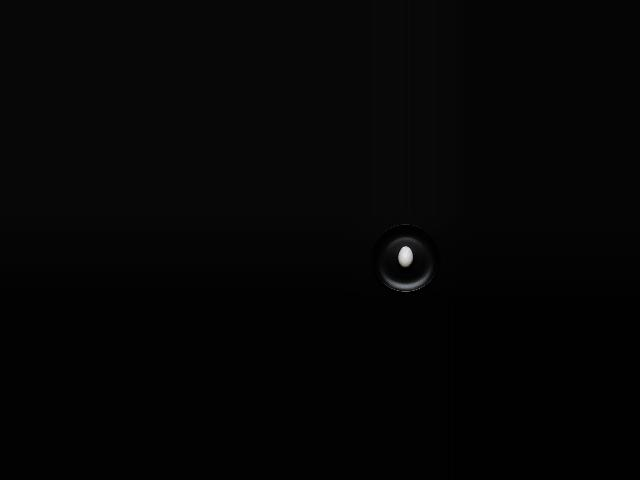egg: (397, 246, 412, 268)
